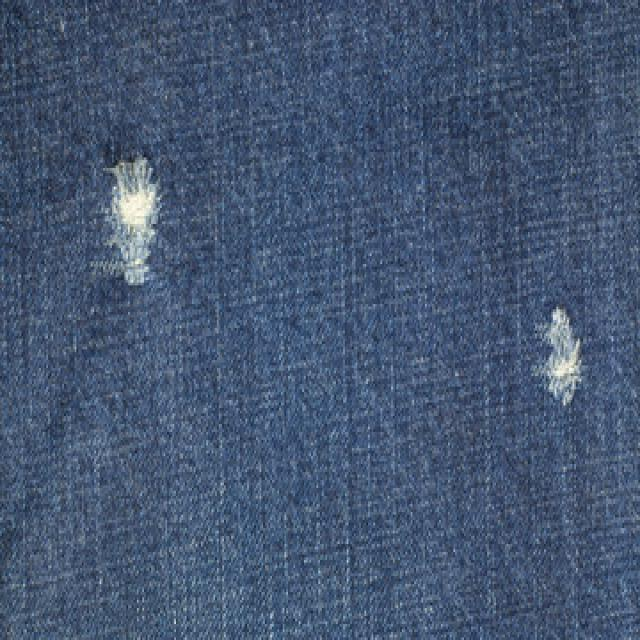Hole: (109, 156, 159, 284), (545, 306, 582, 405)
